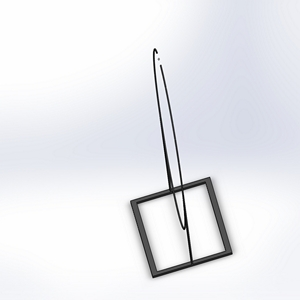circle: (128, 47, 234, 278)
